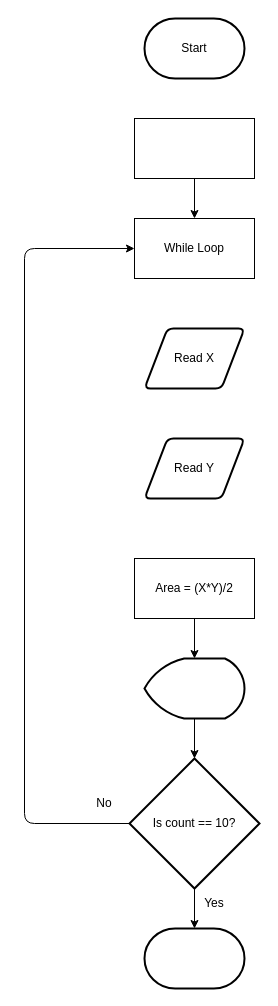
Image size: 278x1006. Some labels were removed from this diagram. Each missing label, with the centre of its shape:
"Count for loop" belongs at point (194, 148).
"End" belongs at point (194, 958).
"print(area)" belongs at point (194, 688).
